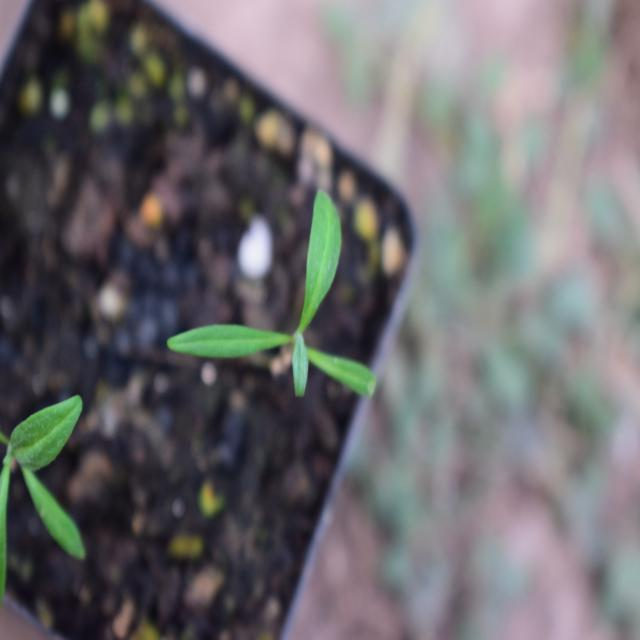white_smart_weed: (157, 173, 396, 425)
